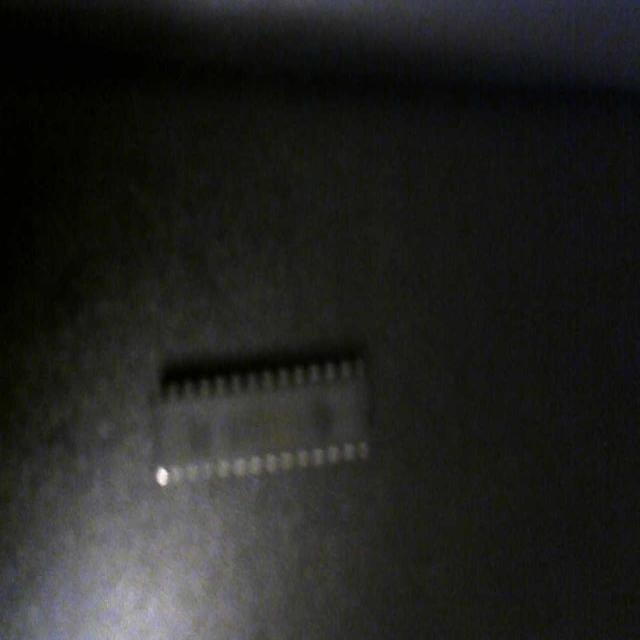atmega: (151, 345, 377, 495)
